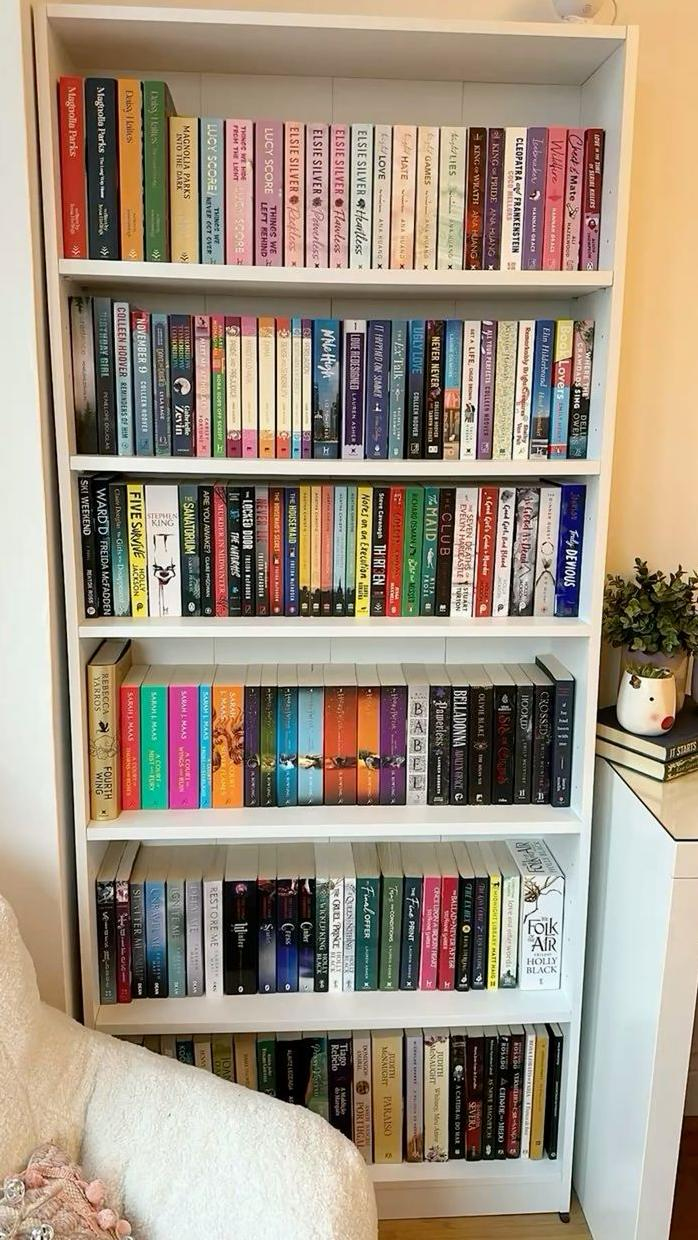book: (57, 78, 87, 259), (142, 81, 171, 258), (116, 81, 144, 256), (144, 484, 180, 616), (490, 843, 520, 993), (212, 667, 243, 810), (94, 848, 122, 1005), (69, 298, 97, 454), (325, 667, 356, 806), (139, 664, 168, 812), (554, 481, 586, 612), (526, 662, 555, 806), (118, 661, 145, 813), (169, 115, 196, 263), (379, 671, 408, 806), (401, 666, 429, 805), (528, 320, 555, 462), (274, 847, 300, 994), (490, 668, 518, 804), (297, 668, 324, 809), (567, 318, 593, 464), (353, 849, 379, 995), (332, 844, 358, 990), (225, 119, 251, 265), (313, 320, 340, 460), (438, 129, 465, 269), (377, 847, 403, 992), (510, 665, 537, 804), (373, 1027, 401, 1161), (548, 319, 574, 462), (417, 848, 443, 991), (534, 481, 562, 612), (390, 126, 416, 266), (446, 667, 472, 807), (398, 848, 423, 993), (492, 320, 518, 459), (202, 848, 226, 998), (542, 128, 567, 271), (466, 670, 492, 807), (356, 669, 382, 805), (182, 849, 206, 996), (414, 128, 439, 268), (422, 1030, 448, 1164), (472, 480, 498, 614), (164, 852, 188, 997), (502, 129, 527, 268), (513, 321, 538, 460), (435, 848, 459, 991), (91, 476, 116, 613), (77, 472, 101, 614), (93, 299, 115, 453), (580, 131, 604, 272), (366, 320, 390, 461), (201, 117, 224, 264), (469, 845, 492, 991), (561, 127, 584, 271), (452, 485, 478, 612), (327, 1031, 354, 1153), (454, 848, 477, 991), (124, 477, 148, 614), (342, 320, 365, 461), (169, 315, 192, 456), (482, 128, 505, 267), (131, 309, 153, 454), (428, 667, 451, 805), (305, 124, 327, 266), (277, 665, 299, 807), (113, 306, 134, 454), (108, 478, 131, 613), (350, 126, 372, 267), (542, 1021, 564, 1162), (227, 484, 251, 613), (527, 1021, 549, 1161), (464, 129, 486, 267), (283, 122, 304, 265), (178, 481, 200, 616), (351, 1030, 374, 1159), (424, 320, 445, 460), (476, 322, 497, 462), (371, 128, 392, 267), (417, 481, 439, 613), (461, 322, 482, 459), (516, 1027, 537, 1163), (406, 321, 426, 463), (434, 486, 456, 615), (296, 858, 317, 993), (442, 322, 462, 461), (313, 848, 332, 992), (385, 484, 406, 614), (193, 315, 212, 457), (152, 313, 171, 455), (329, 125, 348, 266), (388, 321, 407, 462), (257, 318, 276, 457), (482, 1028, 501, 1161), (370, 481, 389, 613), (224, 318, 242, 457), (259, 668, 277, 807), (211, 478, 229, 616), (197, 665, 214, 811), (243, 669, 261, 806), (354, 484, 373, 613), (275, 319, 292, 459), (210, 318, 227, 458), (197, 482, 215, 614), (254, 484, 271, 612), (333, 483, 350, 610), (320, 479, 336, 612), (269, 481, 285, 612), (285, 484, 301, 613), (297, 480, 312, 612), (290, 319, 304, 459)
